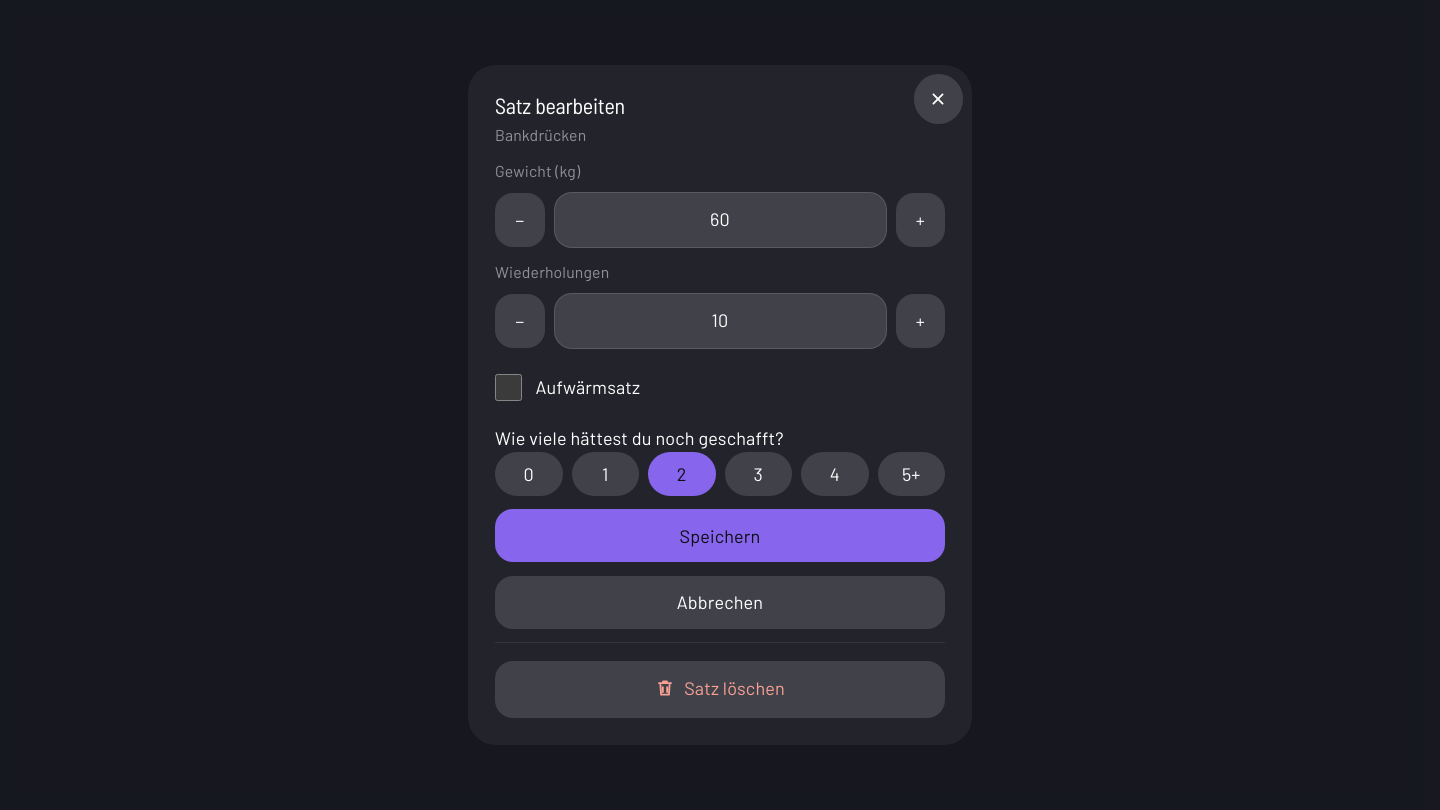
Test: SetEditDialog › stays open with an inline message when saving fails and keeps the typed values
Step 1. Replace the text in the field labelled "Wiederholungen" with "11" → {"x": 720, "y": 321}, box [554, 293, 886, 349]
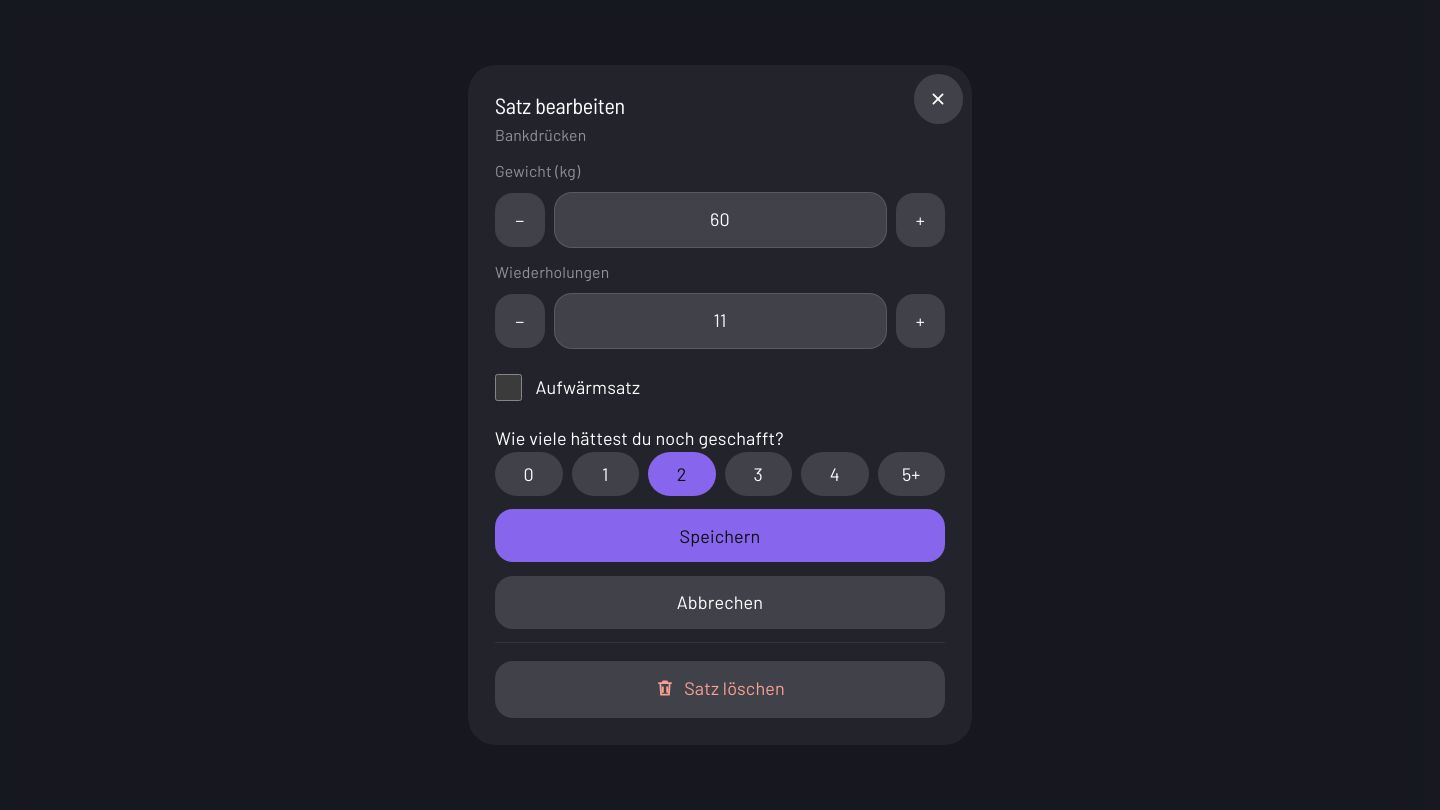
Step 2. Click the button "Speichern" → {"x": 720, "y": 536}, box [495, 509, 945, 562]
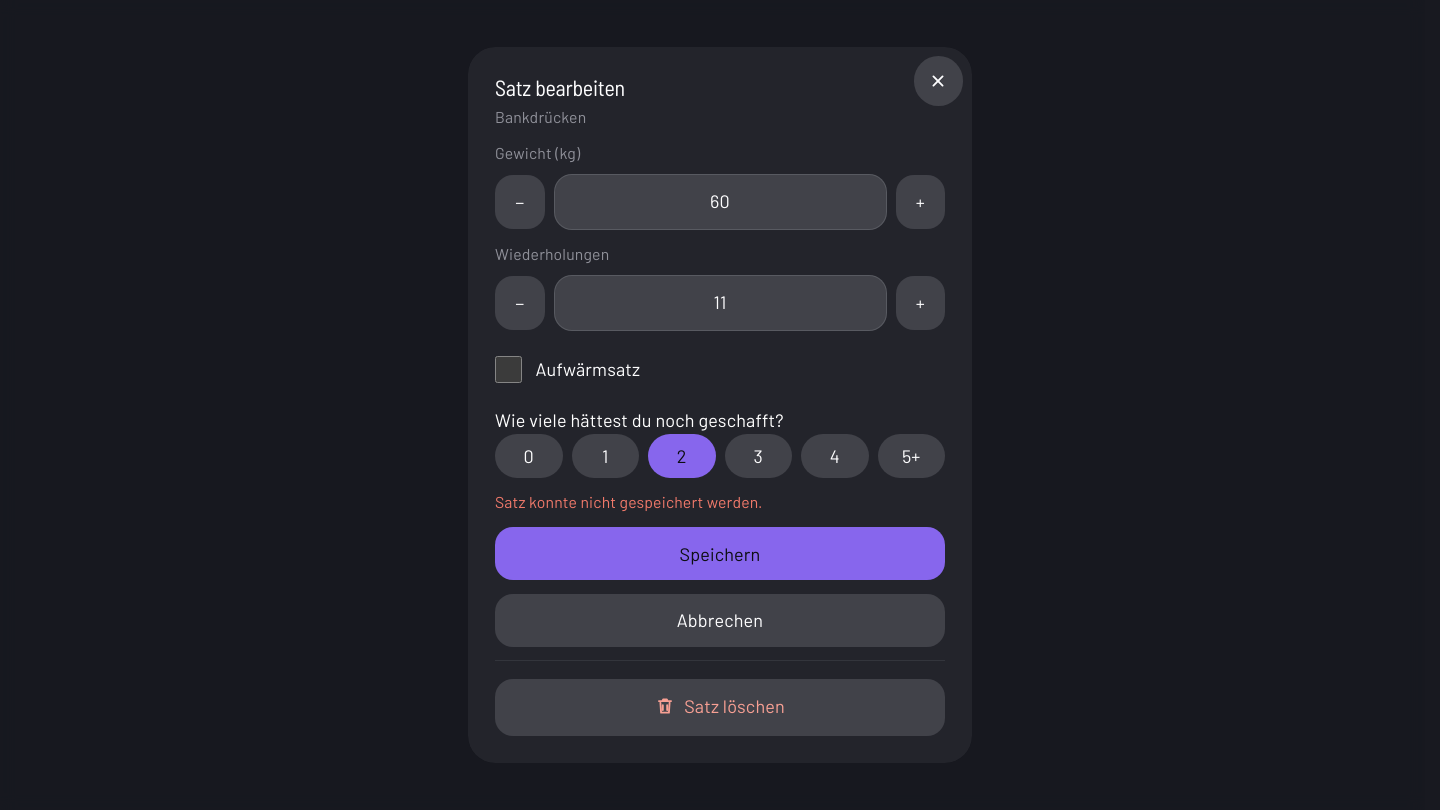
Expected: the text "Satz konnte nicht gespeichert werden." is shown, [495, 492, 763, 511]
